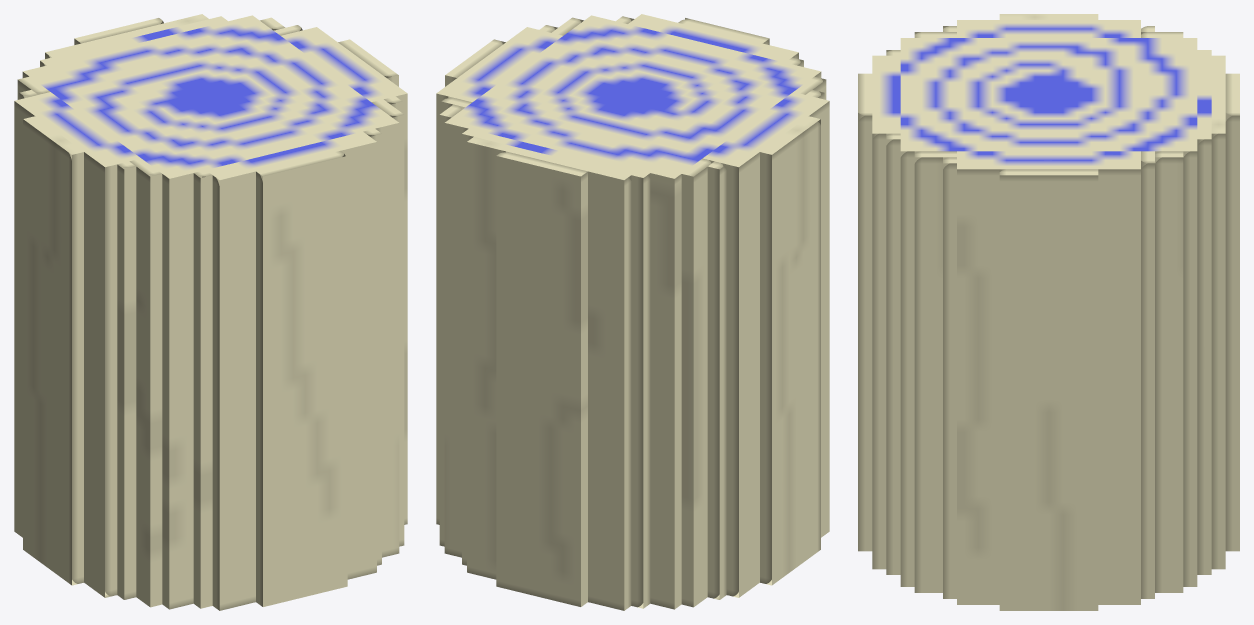
The model's file is Wood.dae.
3 views of the same model, side by side, from view 1: azimuth 30°, elevation 25°; view 2: azimuth 150°, elevation 25°; view 3: azimuth 270°, elevation 25° (orthographic).
Visible parts, largest first — view 1: Node-local; view 2: Node-local; view 3: Node-local.
Part boxes in pixels (x1,y1,x2,y2): Node-local: [14, 14, 407, 610]; Node-local: [436, 14, 829, 610]; Node-local: [858, 14, 1239, 610].
Size of the model in its own units: 27 by 34 by 27.
Materials: 1 (1 with a texture image).
